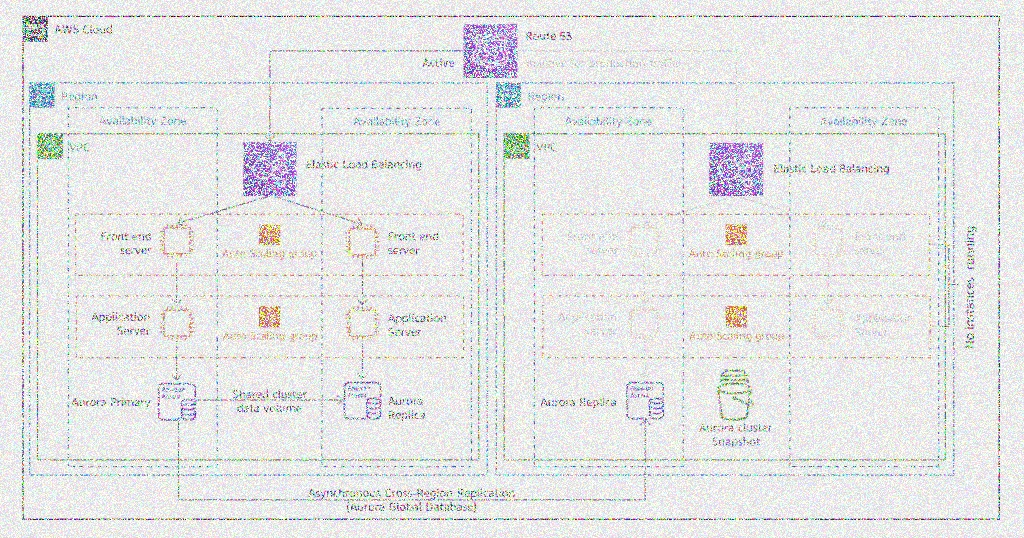Auto Scaling Group: (256, 220, 284, 249), (255, 302, 284, 330), (723, 222, 752, 248), (723, 303, 749, 330)
EC2: (337, 219, 385, 266), (622, 300, 670, 346), (155, 216, 200, 261), (804, 301, 852, 343), (804, 223, 852, 264), (339, 301, 383, 343), (156, 302, 197, 345), (625, 219, 663, 262)
ELB: (704, 137, 768, 201), (239, 140, 301, 200)
RDS: (339, 378, 385, 421), (154, 380, 200, 423), (623, 379, 669, 421)
Region: (26, 75, 60, 112), (495, 81, 524, 109)
Route53: (459, 21, 524, 81)
S3: (712, 365, 758, 422)
aws: (22, 13, 51, 45)
